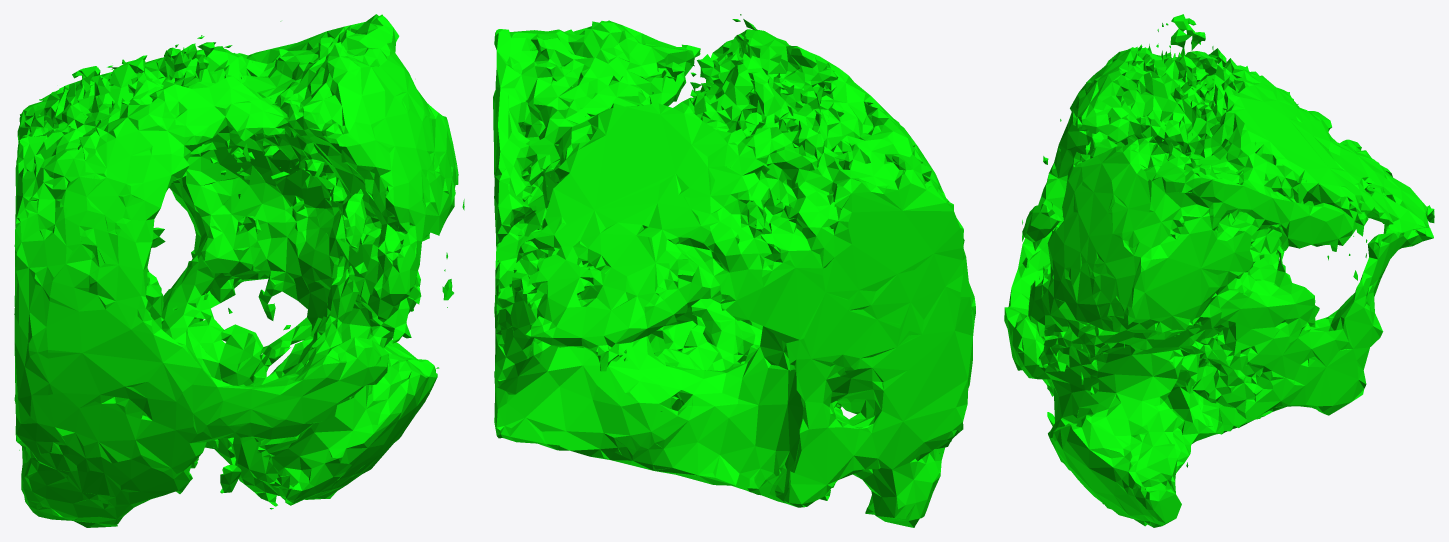
The model's file is B939XXXX-1_base_36.obj.
3 views of the same model, side by side, from view 1: azimuth 30°, elevation 25°; view 2: azimuth 150°, elevation 25°; view 3: azimuth 270°, elevation 25° (orthographic). The views are drawn at different scales.
Parts seen in each view (by area): view 1: 36_base; view 2: 36_base; view 3: 36_base.
Part boxes in pixels (<box>): 36_base: <box>14,14,464,527</box>; 36_base: <box>493,14,975,527</box>; 36_base: <box>1004,14,1434,527</box>.
Size of the model in its own units: 217 by 218 by 203.
